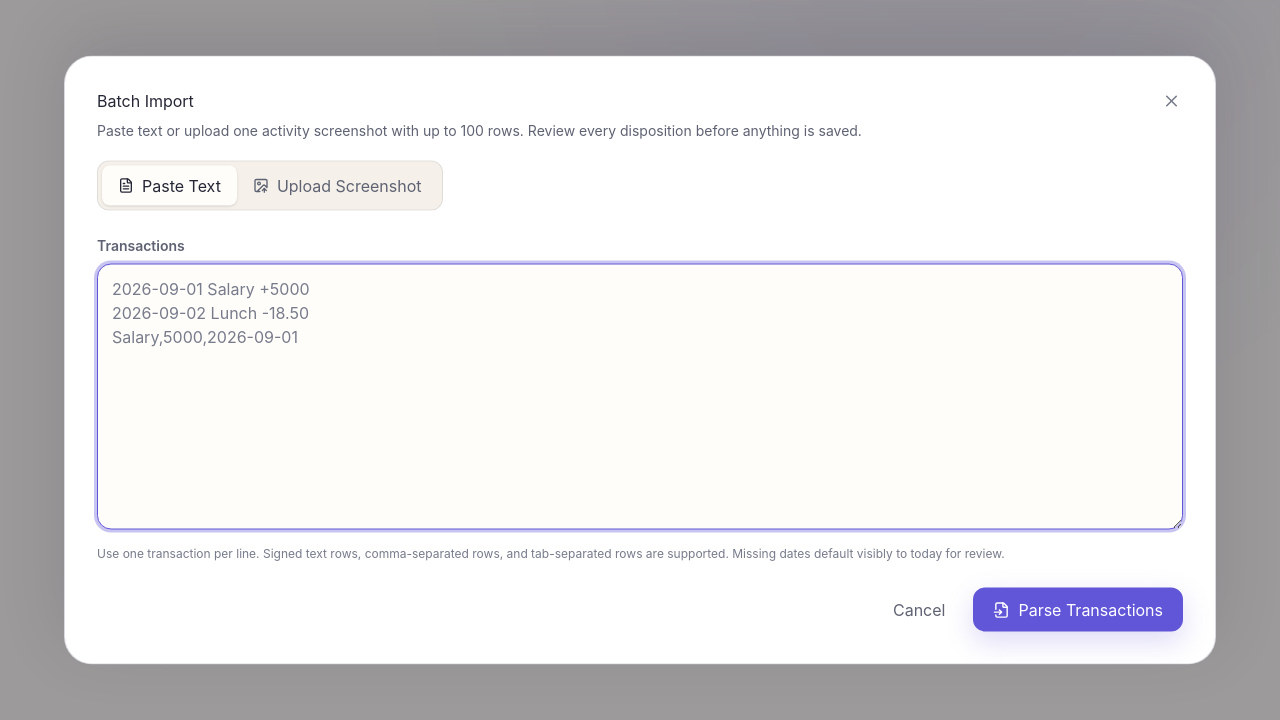
Test: BatchImportDialog › blocks confirmation while required fields remain unresolved
The image size is (1280, 720).
Replace the text in the text box labelled "Transactions" with "2026-09-01 -18.50" at (640, 396), box left=97, top=264, right=1183, bottom=530
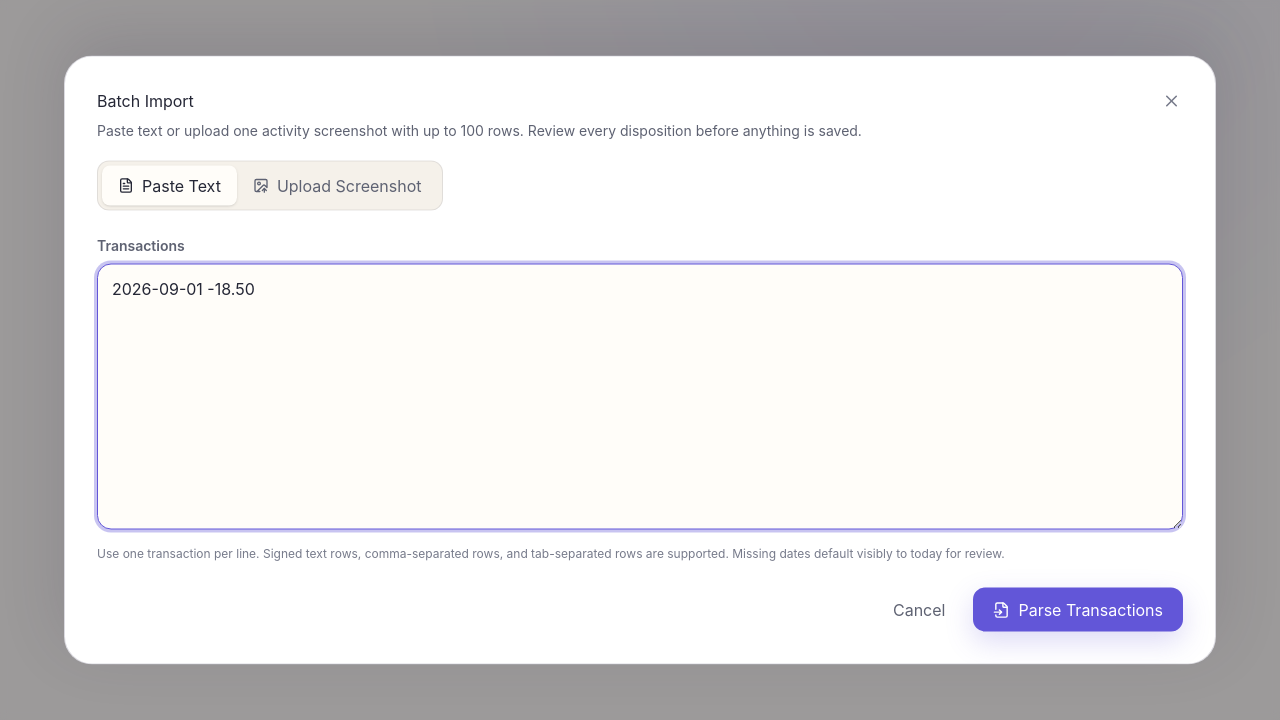
Click the button "Parse Transactions" at (1078, 610), box left=973, top=588, right=1183, bottom=632
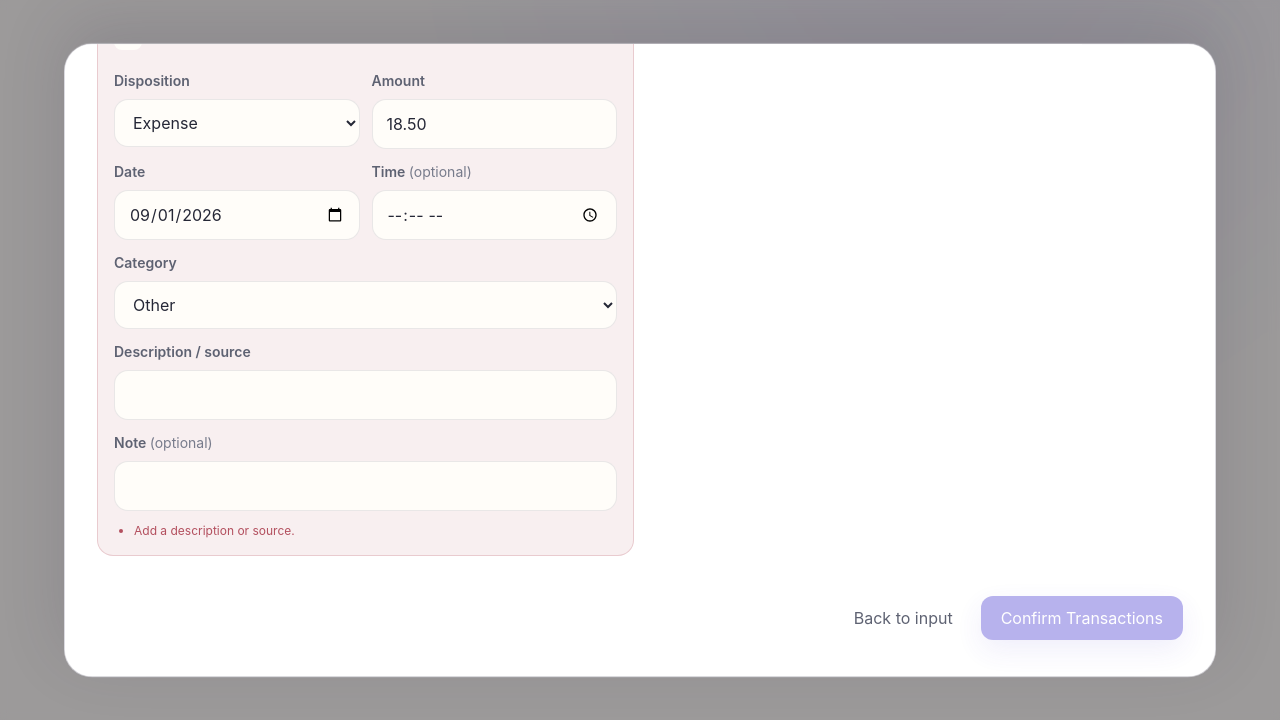
Result: the list item "Add a description or source." is shown at left=134, top=523, right=295, bottom=538
Result: the button "Confirm Transactions" is disabled at left=981, top=596, right=1183, bottom=640
